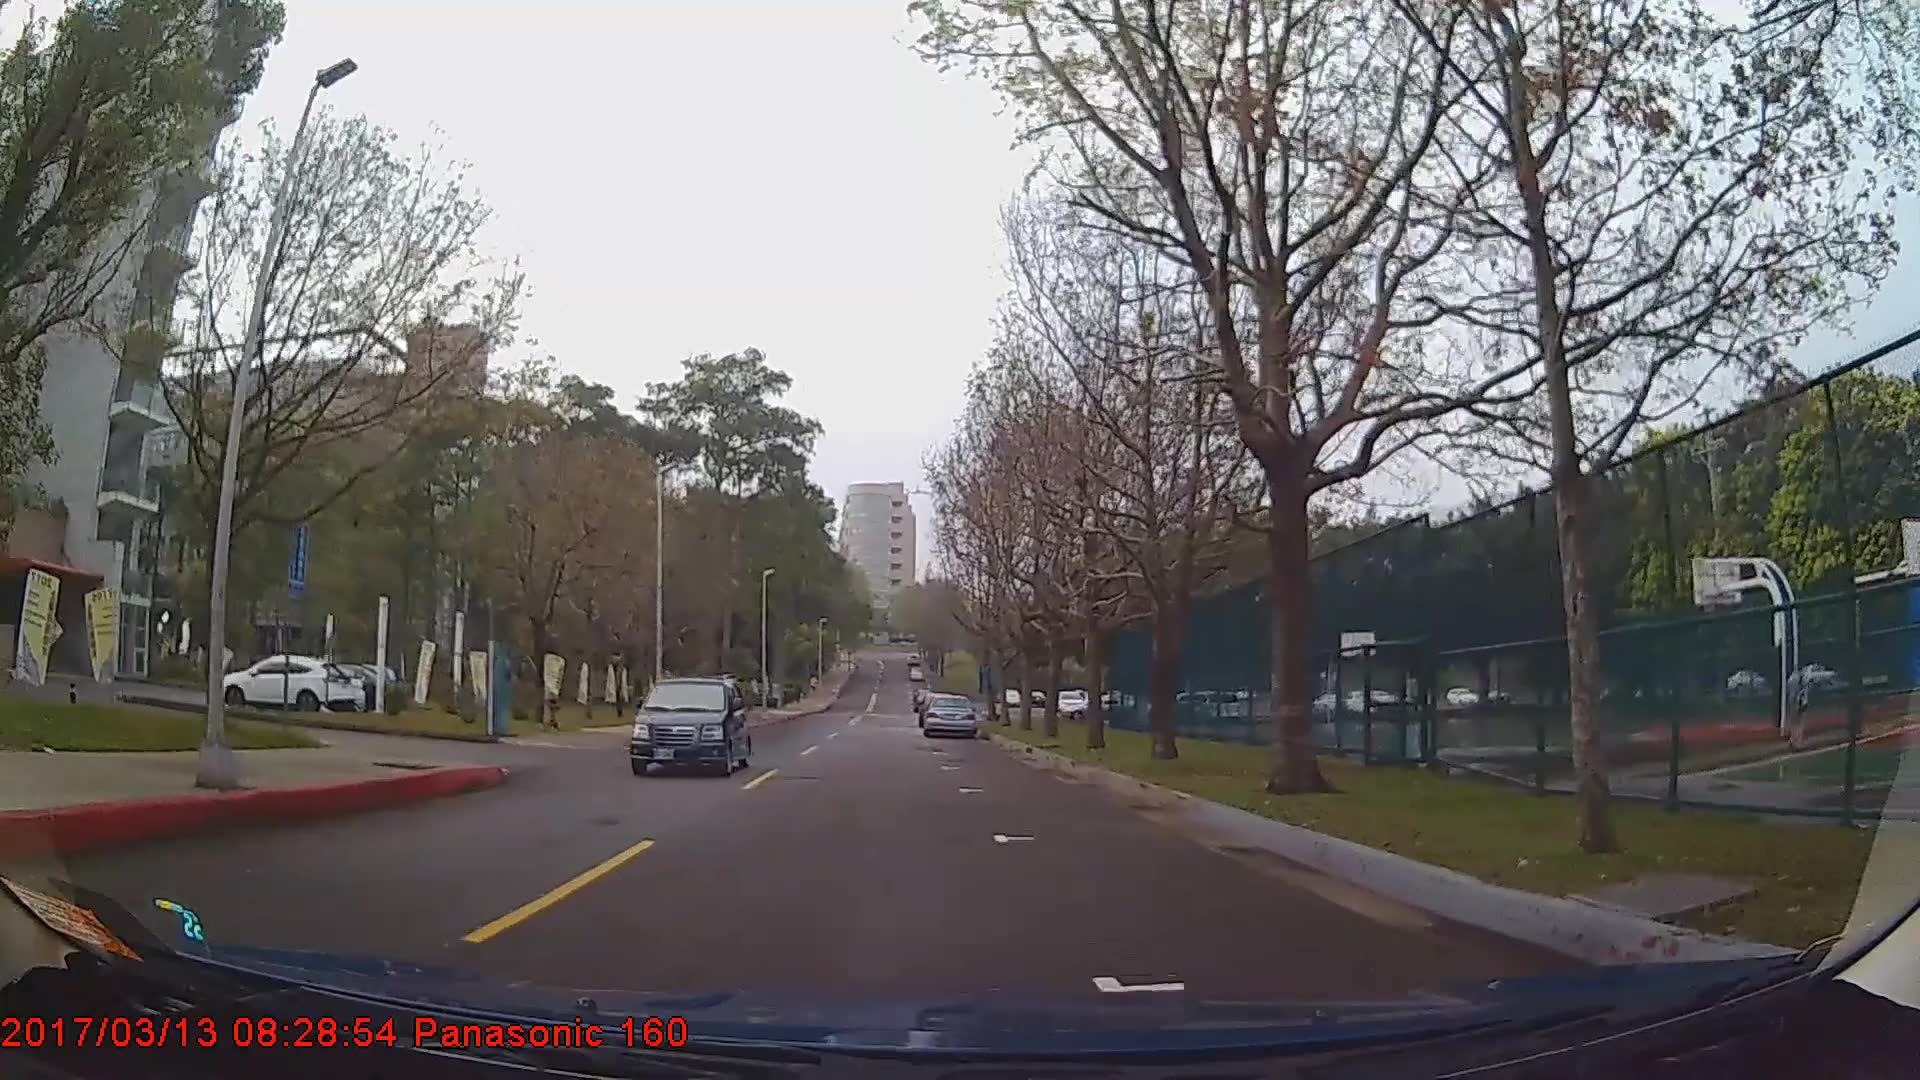vehicle: (626, 673, 752, 778), (220, 651, 355, 720), (922, 694, 977, 740)
